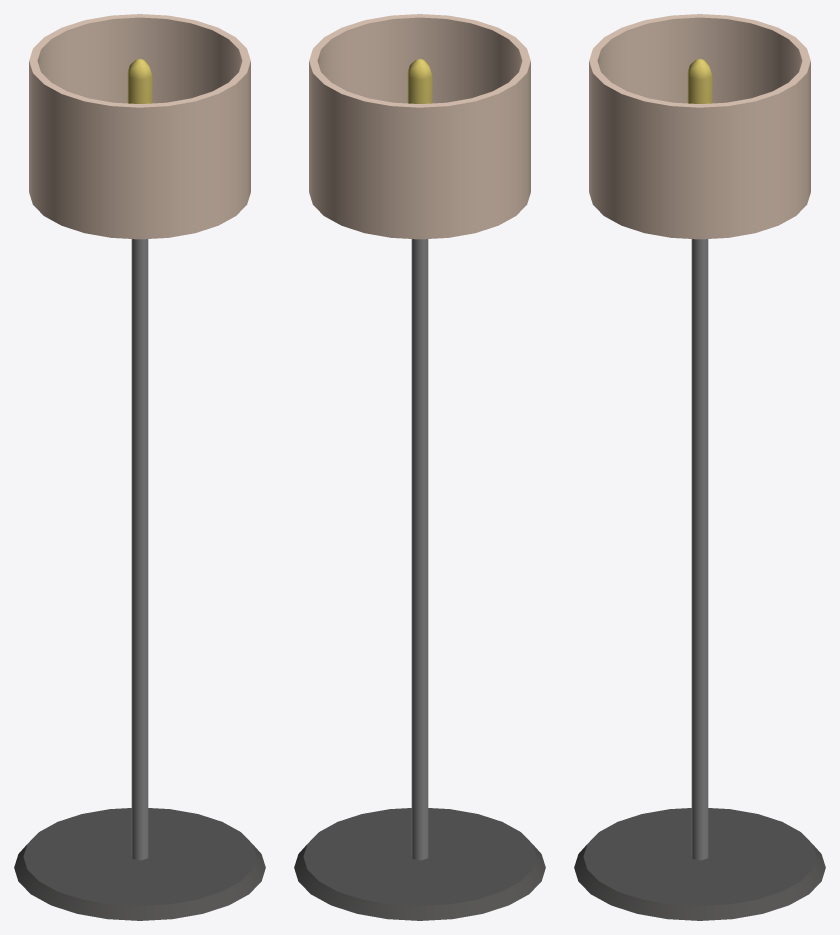
The model's file is lamp_floor.fbx.
3 views of the same model, side by side, from view 1: azimuth 30°, elevation 25°; view 2: azimuth 150°, elevation 25°; view 3: azimuth 270°, elevation 25° (orthographic).
Parts seen in each view (by area): view 1: lamp_floor; view 2: lamp_floor; view 3: lamp_floor.
Part boxes in pixels (box(x1,y1,x2,y2)): lamp_floor: box(14, 14, 265, 920); lamp_floor: box(294, 14, 545, 920); lamp_floor: box(574, 14, 825, 920).
Size of the model in its own units: 59.95 by 213 by 59.95.
